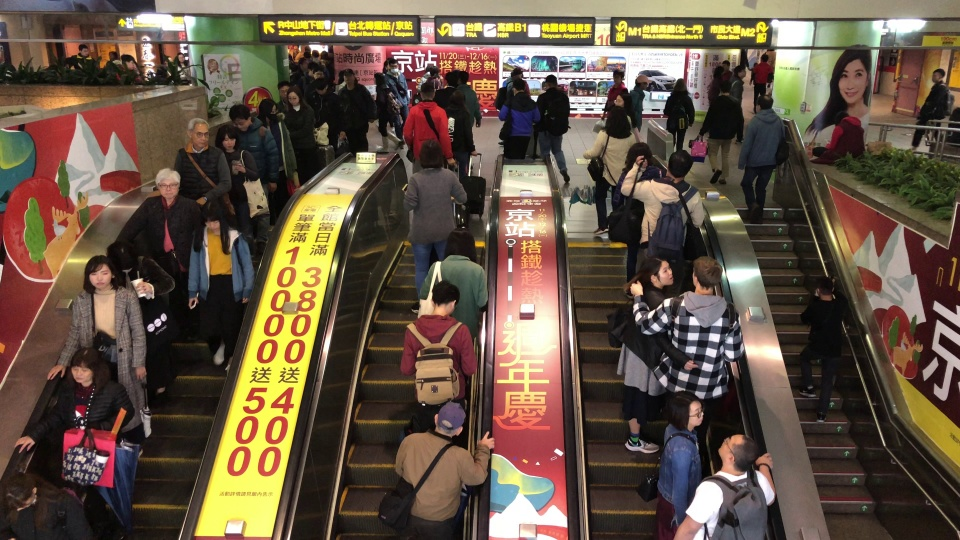person_head: (202, 199, 233, 257), (2, 473, 44, 515), (665, 390, 704, 432), (637, 252, 676, 293), (427, 276, 462, 321), (429, 399, 465, 441), (718, 432, 754, 471), (444, 227, 476, 262), (691, 257, 722, 293), (82, 256, 113, 288), (612, 91, 638, 129), (108, 237, 137, 271), (71, 352, 96, 390), (605, 106, 632, 140), (665, 149, 693, 181), (155, 166, 179, 203), (625, 144, 651, 178), (418, 141, 444, 170), (228, 103, 253, 133), (187, 116, 209, 149), (215, 123, 235, 155), (808, 276, 835, 299), (451, 91, 470, 120), (260, 100, 278, 127), (419, 81, 434, 106), (929, 65, 947, 85), (670, 78, 688, 98), (285, 86, 301, 107), (756, 96, 775, 111), (544, 73, 558, 93), (513, 80, 528, 98), (835, 108, 849, 126), (635, 74, 649, 92), (611, 65, 624, 84), (276, 80, 289, 97), (176, 52, 190, 67), (313, 78, 325, 95), (458, 70, 470, 87), (720, 79, 732, 96), (160, 54, 172, 69), (735, 65, 746, 81), (312, 64, 323, 79), (372, 73, 383, 88), (512, 67, 523, 82), (78, 44, 90, 57), (107, 50, 119, 62), (428, 66, 438, 80), (447, 72, 456, 86), (722, 61, 731, 73), (760, 52, 768, 65), (322, 50, 328, 59), (305, 46, 312, 52), (312, 50, 319, 56)
person_vbox: (629, 251, 751, 507), (13, 348, 133, 540), (47, 252, 152, 463), (616, 254, 691, 454), (124, 164, 194, 370), (393, 402, 496, 535), (182, 194, 252, 382), (619, 150, 705, 301), (668, 427, 776, 540), (102, 231, 174, 396), (404, 284, 482, 434), (405, 137, 466, 323), (794, 271, 858, 424), (612, 142, 671, 300), (172, 109, 230, 267), (422, 223, 488, 357), (582, 105, 646, 237), (652, 396, 705, 540), (216, 122, 265, 264), (227, 102, 280, 233), (1, 466, 86, 540), (741, 91, 787, 222), (405, 83, 457, 174), (908, 59, 957, 154), (702, 76, 743, 186), (258, 98, 300, 194), (537, 73, 571, 185), (444, 90, 478, 192), (283, 85, 316, 190), (338, 67, 377, 155), (497, 79, 538, 160), (371, 69, 404, 160), (448, 70, 481, 159), (309, 77, 340, 167), (662, 76, 696, 148), (499, 68, 529, 149), (822, 107, 865, 161), (665, 77, 695, 153), (599, 62, 626, 129), (626, 74, 650, 143), (612, 91, 642, 143), (388, 61, 410, 124), (730, 65, 746, 144), (751, 50, 771, 110), (434, 72, 457, 117), (304, 63, 328, 102), (65, 44, 97, 72), (707, 64, 724, 112), (413, 62, 432, 104), (943, 107, 960, 148), (155, 53, 175, 84), (275, 78, 293, 112), (765, 48, 776, 91), (176, 52, 190, 85), (107, 50, 124, 73), (427, 66, 443, 90), (740, 50, 750, 79), (290, 42, 302, 62), (337, 65, 345, 91), (288, 52, 296, 75), (320, 49, 328, 71), (344, 68, 355, 84), (379, 61, 391, 75), (302, 52, 311, 69), (312, 50, 321, 63), (388, 56, 394, 66)
